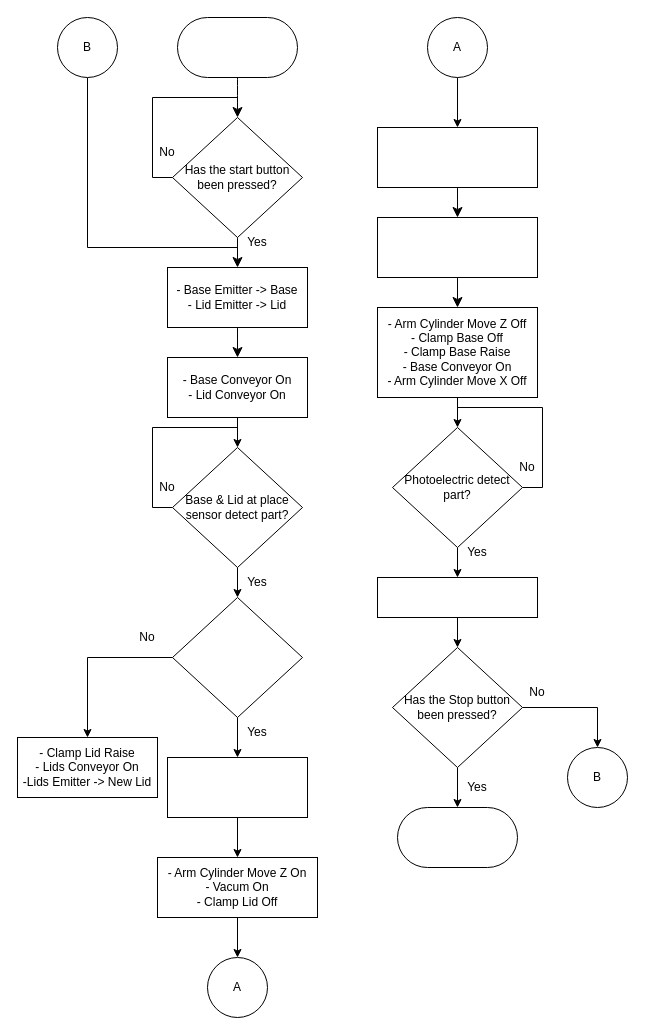
This 645x1035 diagram has some shape labels left out. Here are the shapes that lost their labels. From the top down, the box of each, then its label:
(176, 16, 298, 78): START: AUTO SEQUENCE
(376, 126, 538, 188): - Arm Cylinder Move Z Off - Arm Cylinder Move X On
(376, 216, 538, 278): - Arm Cylinder Move Z On - Vacum Off
(376, 576, 538, 618): - Count Up
(172, 596, 302, 718): Vision Sensor Check: Lid Color == Base Color?
(166, 756, 308, 818): - Clamp Base On - Clamp Lid On -Base Conveyor Off - Lid Conveyor Off
(396, 806, 518, 868): RETURN TO MAIN
